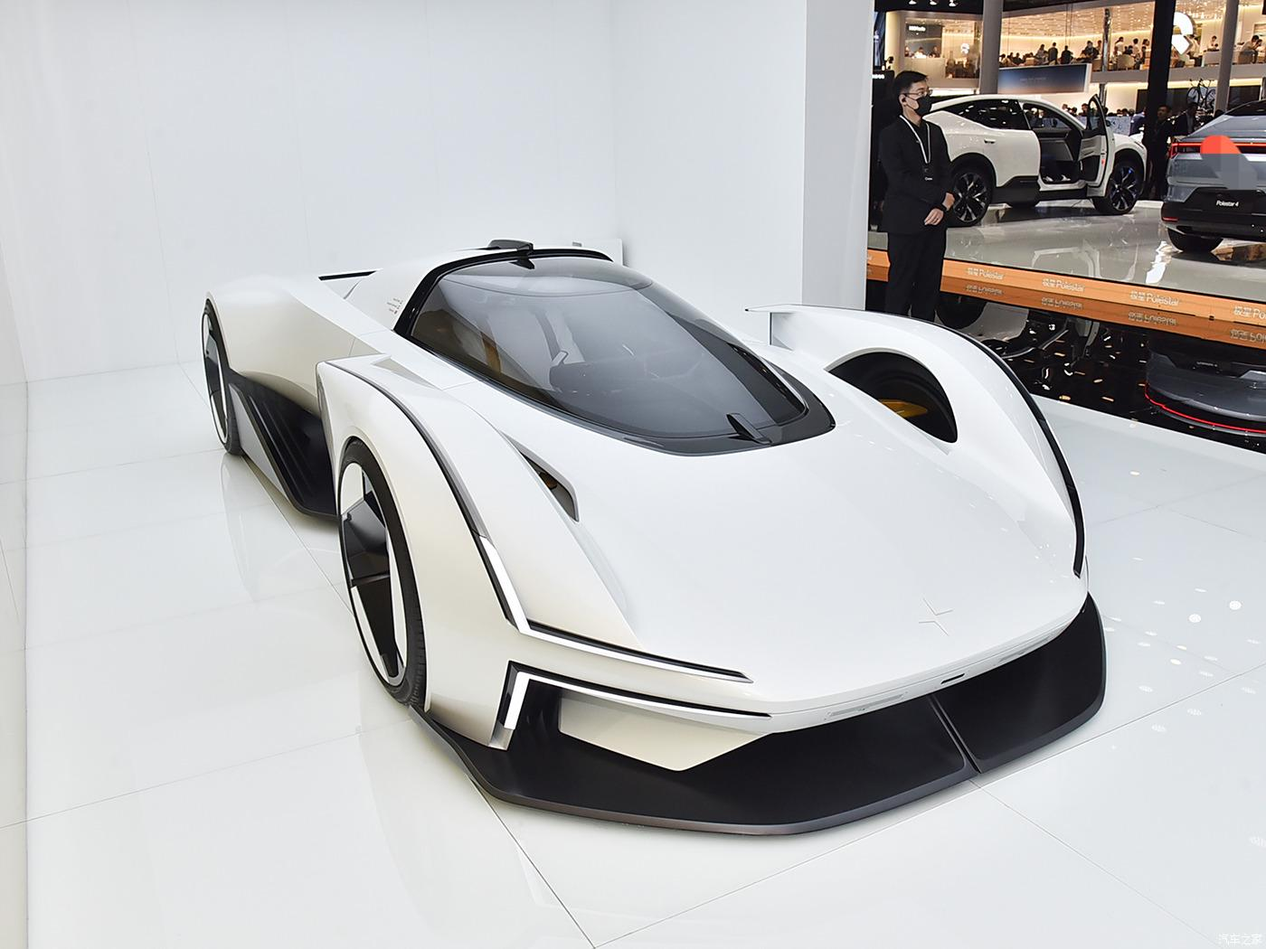Polestar: (920, 597, 952, 634)
